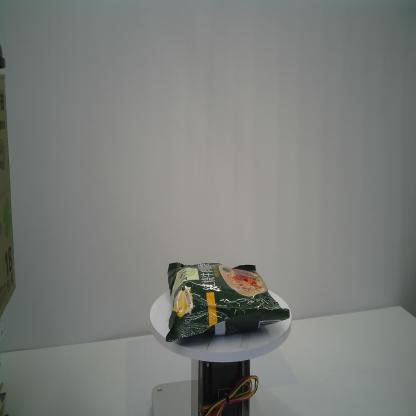Instant Noodles: (164, 259, 291, 343)
